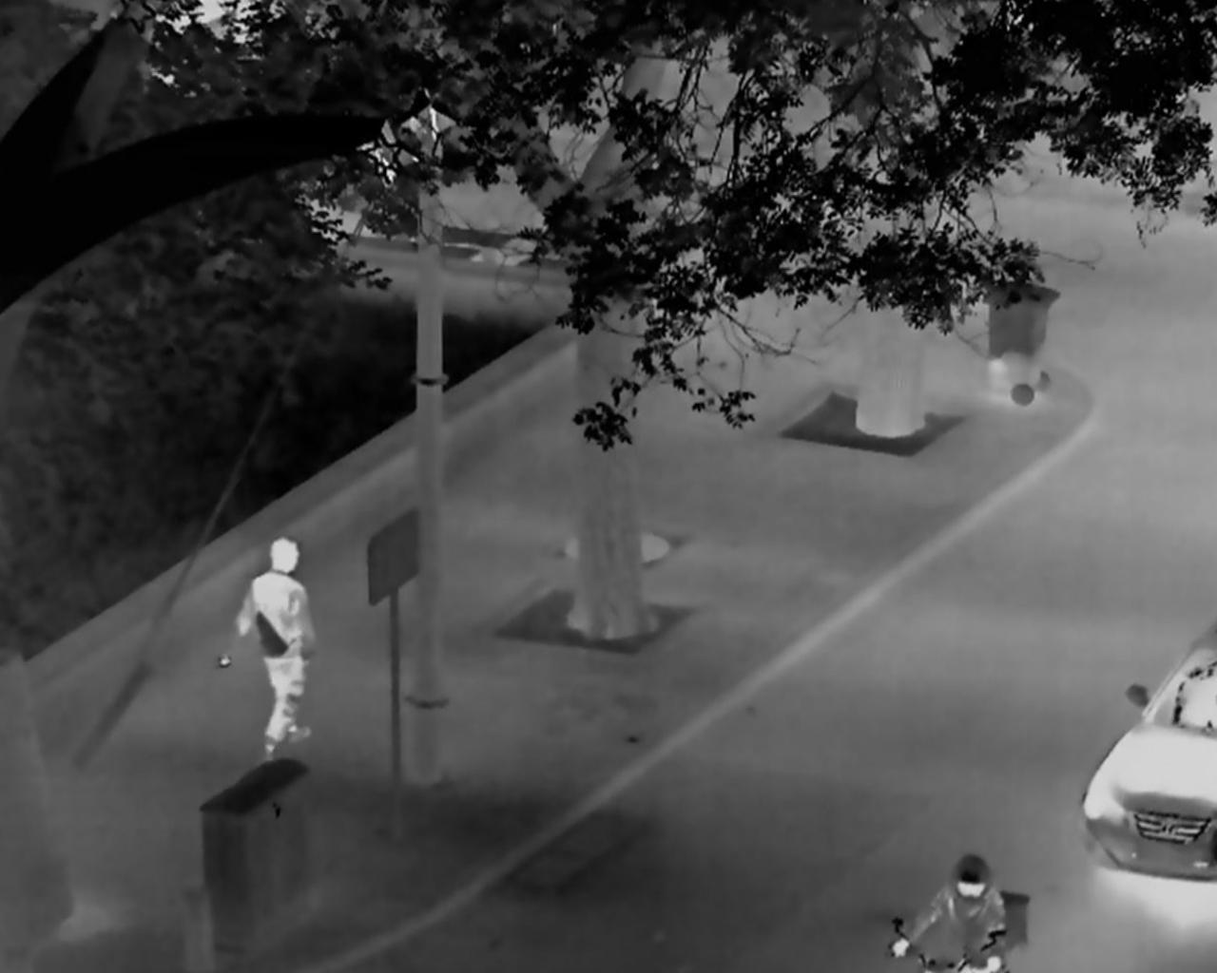person: (218, 535, 318, 763), (887, 854, 1012, 973)
